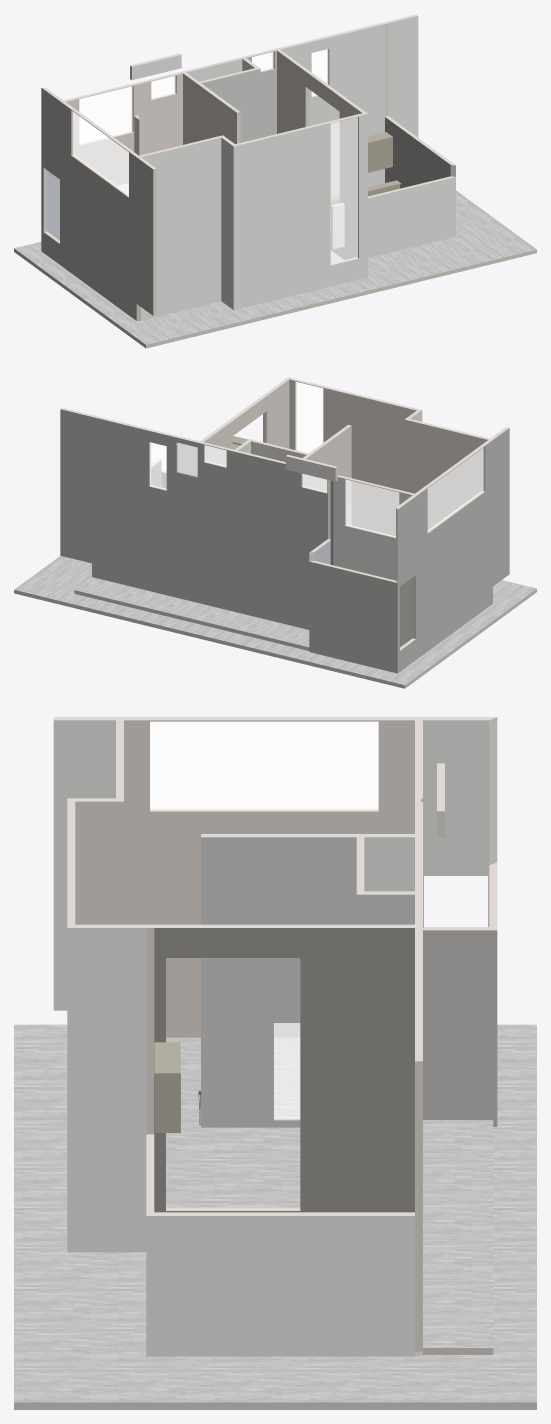
Rendered from polycam-fireplace-room.glb.
3 views of the same model, one above another, from view 1: azimuth 30°, elevation 25°; view 2: azimuth 150°, elevation 25°; view 3: azimuth 270°, elevation 25° (orthographic). The views are drawn at different scales.
Visible parts, largest first — view 1: wall_26, floor, wall_4, wall_9, wall_8, wall_22, door_0, door_3, wall_1, wall_35, wall_2, wall_85 (+29 smaller); view 2: wall_45, wall_9, wall_59, floor, wall_81, wall_27, wall_37, wall_55, wall_31, floor_Other_3, wall_61, wall_67 (+27 smaller); view 3: floor, wall_3, wall_28, wall_11, wall_10, wall_47, window_0, window_6, floor_Other_3, floor_Other_1, wall_71, wall_57 (+17 smaller).
Boxes of the visible parts, x1,y1,x2,y2 form: wall_26: [233, 114, 367, 310]; floor: [14, 190, 536, 344]; wall_4: [141, 137, 221, 320]; wall_9: [61, 102, 136, 320]; wall_8: [280, 24, 384, 195]; wall_22: [368, 177, 455, 257]; door_0: [331, 117, 357, 264]; door_3: [331, 117, 357, 263]; wall_1: [388, 16, 418, 137]; wall_35: [277, 51, 342, 257]; wall_2: [136, 157, 153, 315]; wall_85: [385, 117, 450, 188]; wall_45: [92, 417, 199, 603]; wall_9: [417, 440, 492, 658]; wall_59: [234, 451, 293, 626]; floor: [14, 556, 536, 684]; wall_81: [289, 379, 416, 535]; wall_27: [309, 561, 397, 673]; wall_37: [404, 419, 487, 529]; wall_55: [200, 443, 234, 611]; wall_31: [60, 409, 91, 563]; floor_Other_3: [75, 577, 309, 647]; wall_61: [293, 471, 327, 629]; wall_67: [342, 478, 412, 647]; floor: [14, 1024, 536, 1402]; wall_3: [154, 928, 414, 1212]; wall_28: [146, 1216, 414, 1356]; wall_11: [201, 837, 356, 1127]; wall_10: [67, 928, 146, 1252]; wall_47: [124, 720, 414, 1037]; window_0: [150, 722, 378, 809]; window_6: [150, 722, 378, 809]; floor_Other_3: [423, 1120, 493, 1347]; floor_Other_1: [166, 1037, 300, 1207]; wall_71: [424, 930, 497, 1126]; wall_57: [423, 720, 489, 927].
Bounding box in the file's own units: 11.24 × 4.97 × 6.58.
76 materials, 6 textured.
